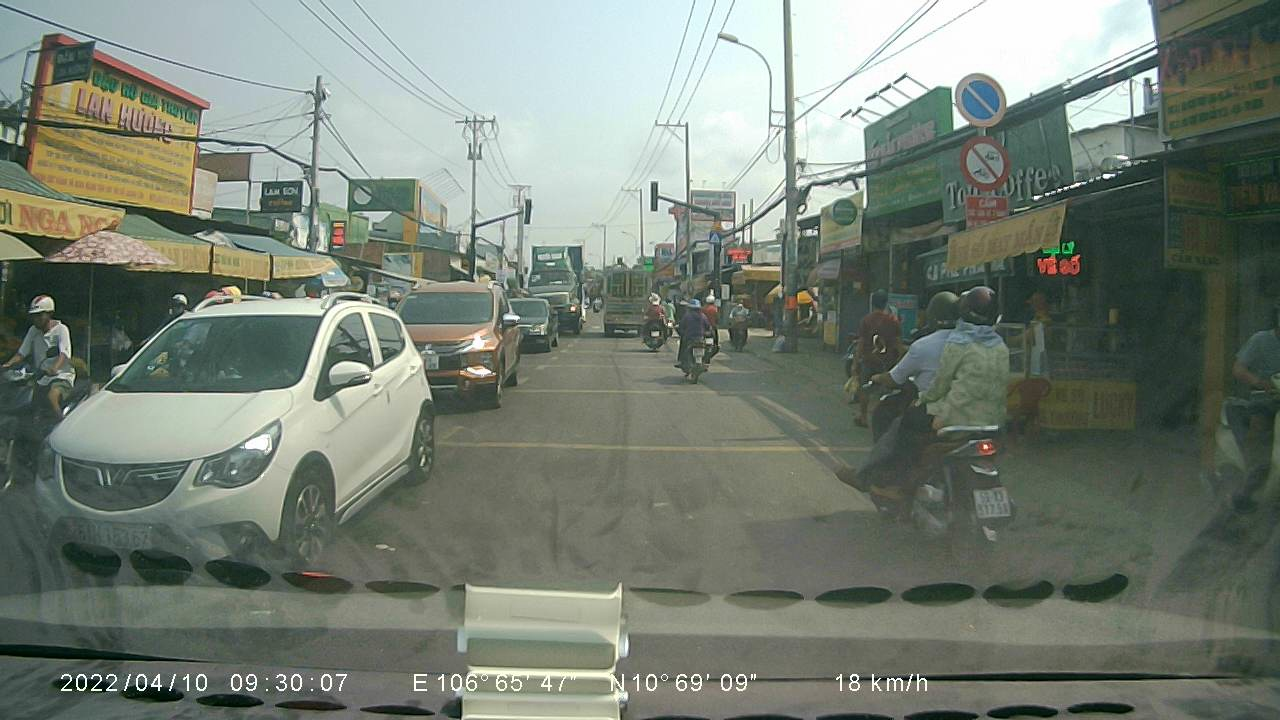Bien khac: (955, 135, 1010, 189)
Cam do xe: (951, 69, 1015, 128)
